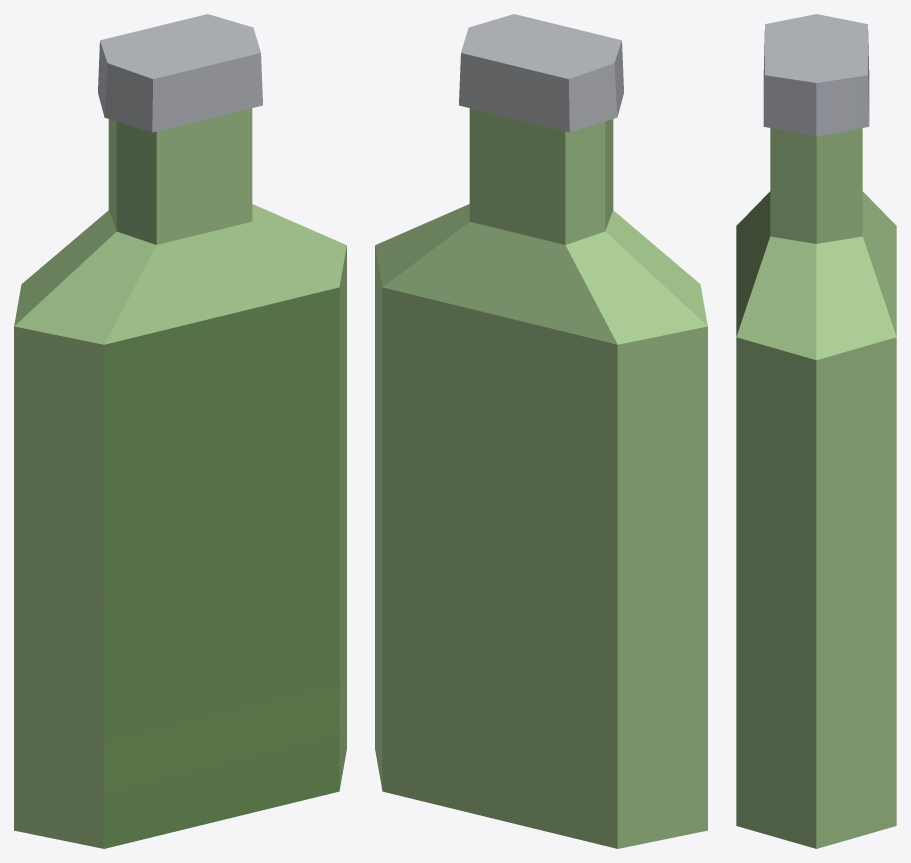
File: Shampoo_01.fbx
3 views of the same model, side by side, from view 1: azimuth 30°, elevation 25°; view 2: azimuth 150°, elevation 25°; view 3: azimuth 270°, elevation 25° (orthographic). The views are drawn at different scales.
Visible parts, largest first — view 1: Shampoo_01; view 2: Shampoo_01; view 3: Shampoo_01.
Boxes of the visible parts, bbox=[...] form: Shampoo_01: bbox=[14, 14, 346, 848]; Shampoo_01: bbox=[375, 14, 707, 848]; Shampoo_01: bbox=[736, 14, 896, 848].
Bounding box in the file's own units: 10.13 × 21.65 × 4.36.
